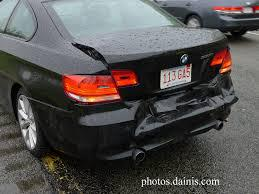rear-bumper-dent: (130, 101, 209, 148)
